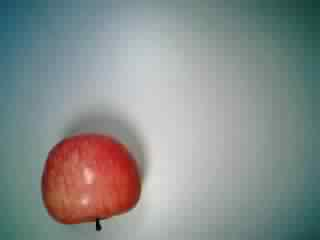apple: (36, 131, 143, 234)
